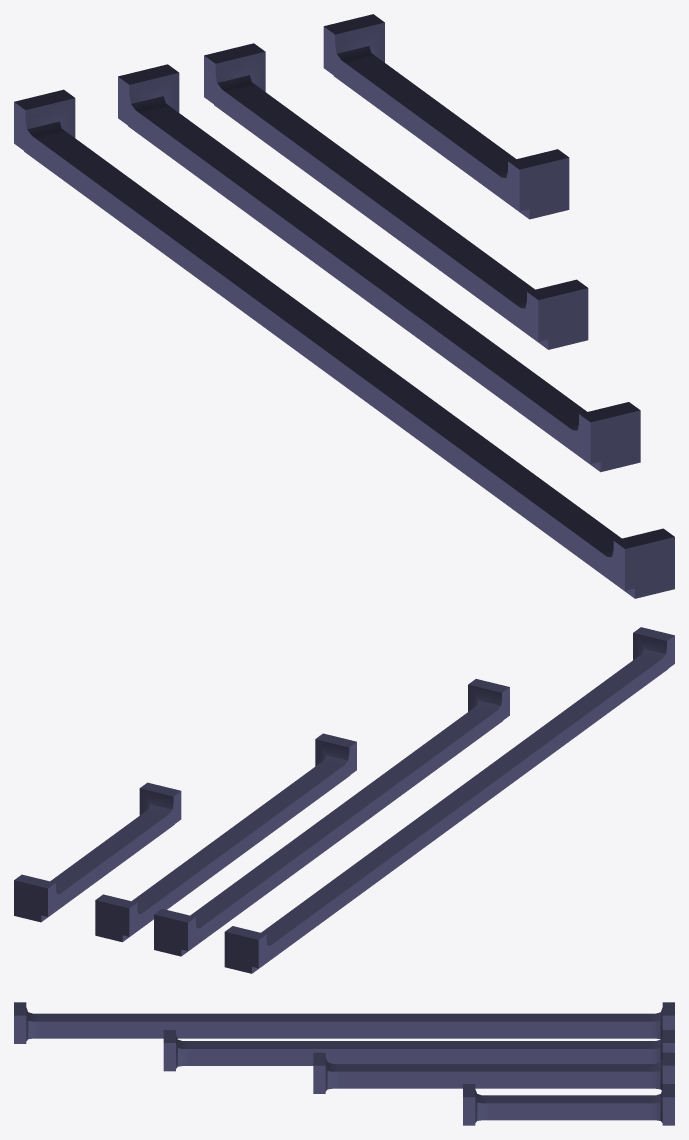
Rendered from OuterCorner.obj.
3 renders of one model, top to bottom at view 1: azimuth 30°, elevation 25°; view 2: azimuth 150°, elevation 25°; view 3: azimuth 270°, elevation 25°, orthographic. The views are drawn at different scales.
Parts seen in each view (by area): view 1: SM_InnerRadius_1_E001; view 2: SM_InnerRadius_1_E001; view 3: SM_InnerRadius_1_E001.
Boxes of the visible parts, x1,y1,x2,y2 form: SM_InnerRadius_1_E001: (14,14,674,598); SM_InnerRadius_1_E001: (14,627,674,973); SM_InnerRadius_1_E001: (14,1002,674,1125).
Bounding box in the file's own units: 142 × 19.69 × 417.
